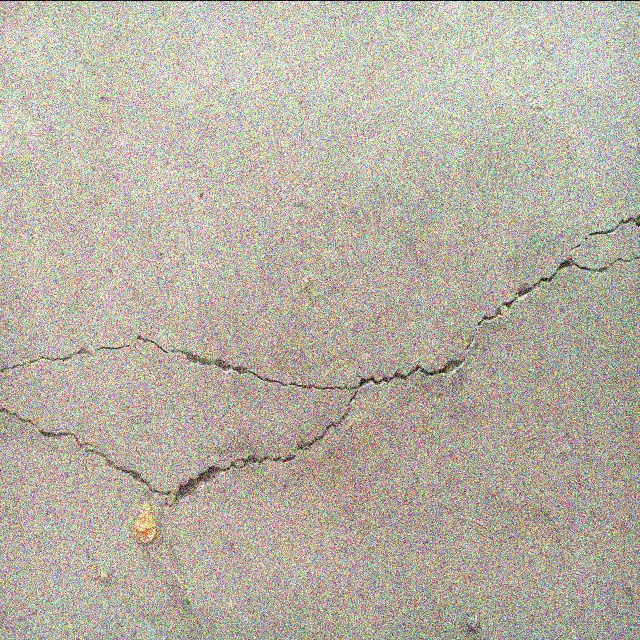SurfaceCrack: (1, 167, 640, 540)
